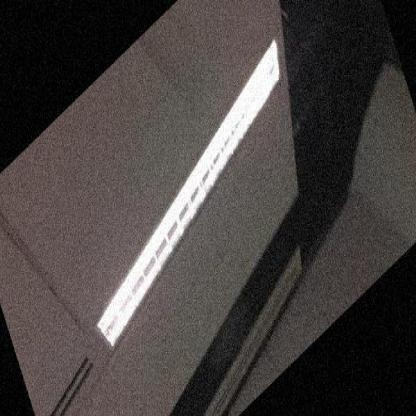light_on: (66, 22, 322, 361)
